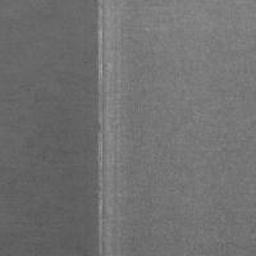Welding line: (96, 0, 106, 256)
